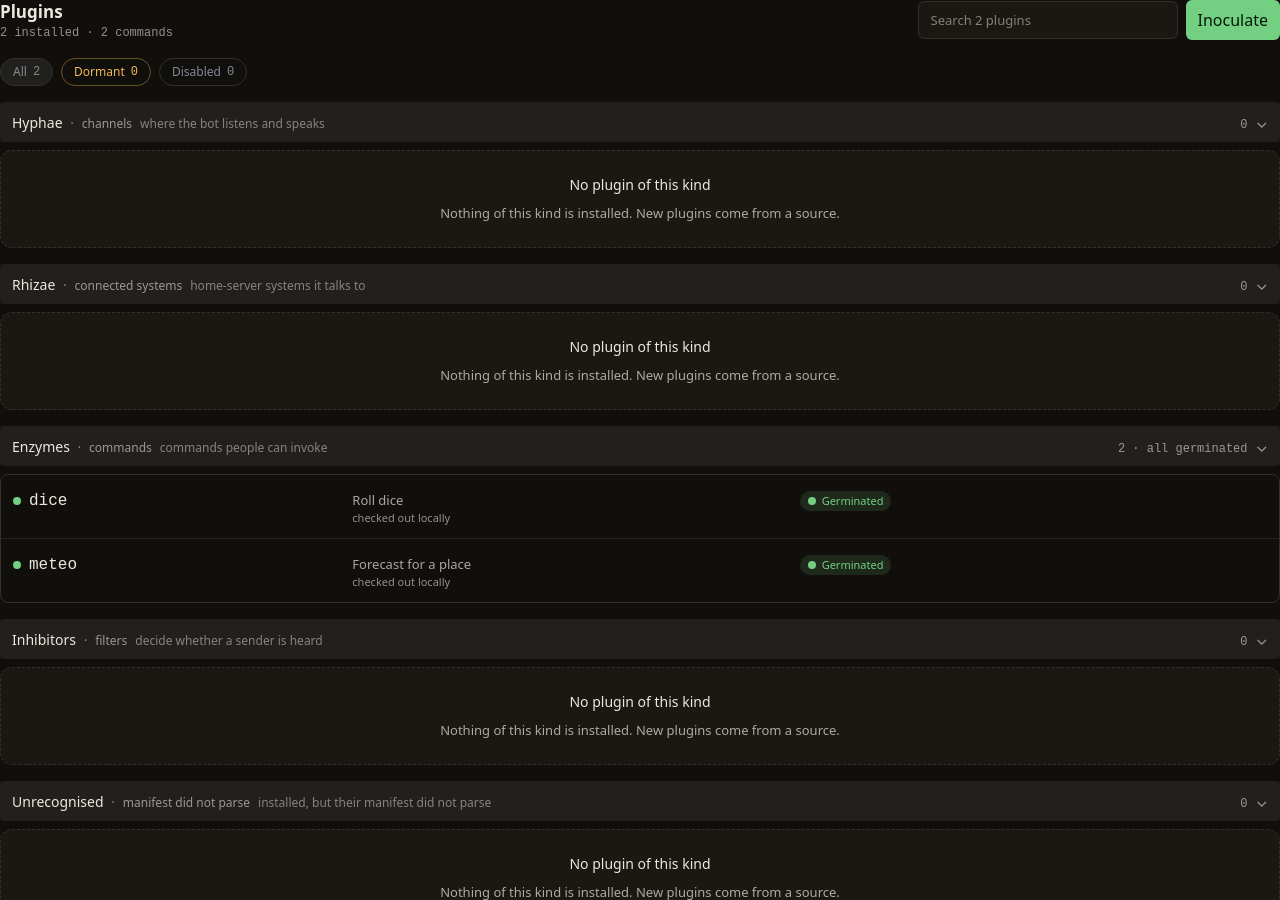
Test: the plugins list chrome › sends a search that matches nothing to the sources instead of showing empty groups
This screenshot has width=1280, height=900.
expect the link "meteo" is shown: met, box [29,553,77,577]
Type "grafna" into the search field at (1048, 20), box [918,1,1178,39]
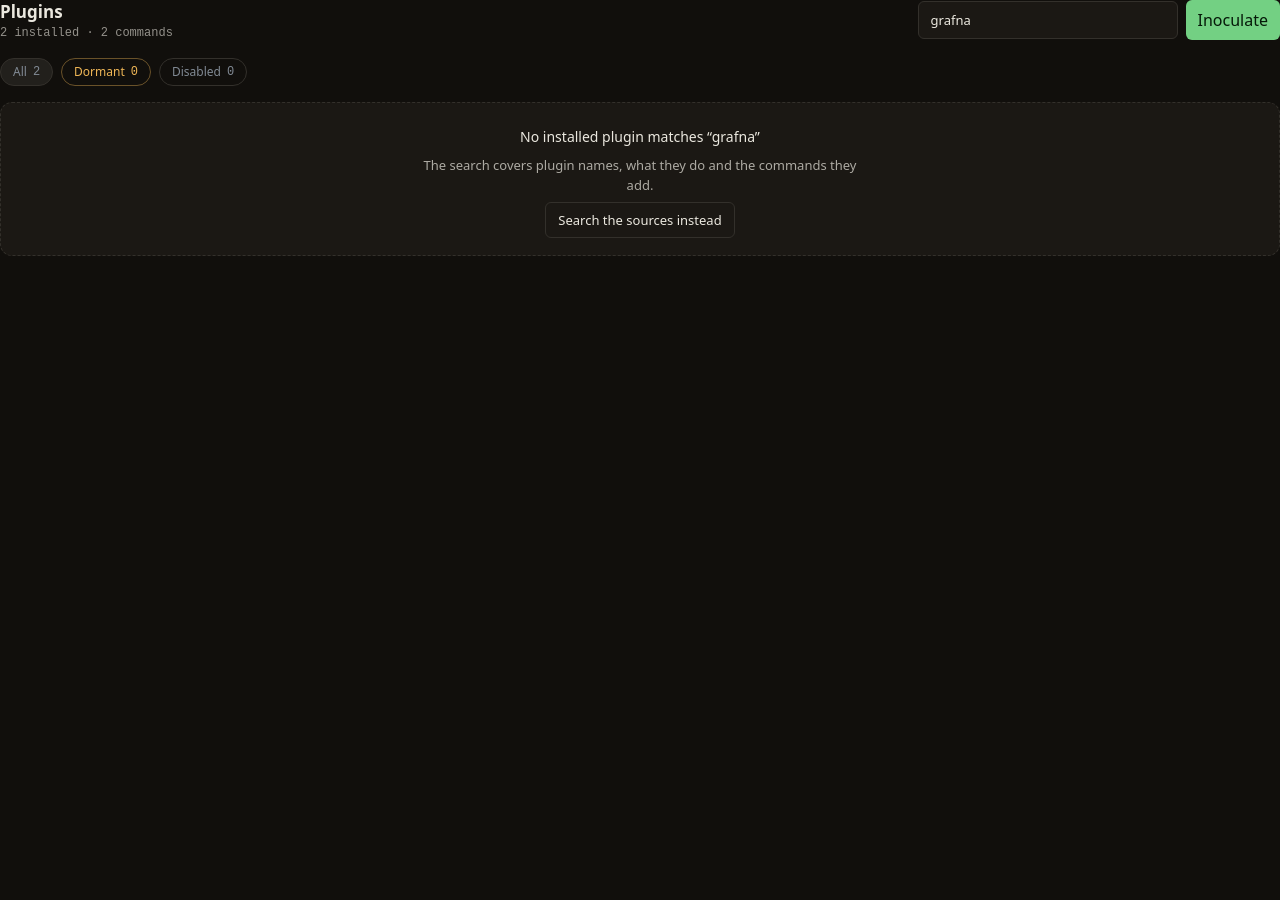
expect the text "No installed plugin matches “grafna”" is shown: met, box [520,127,760,146]
expect no links with test id "plugin-name" are shown: met
expect the text "No plugin of this kind" is gone: met
